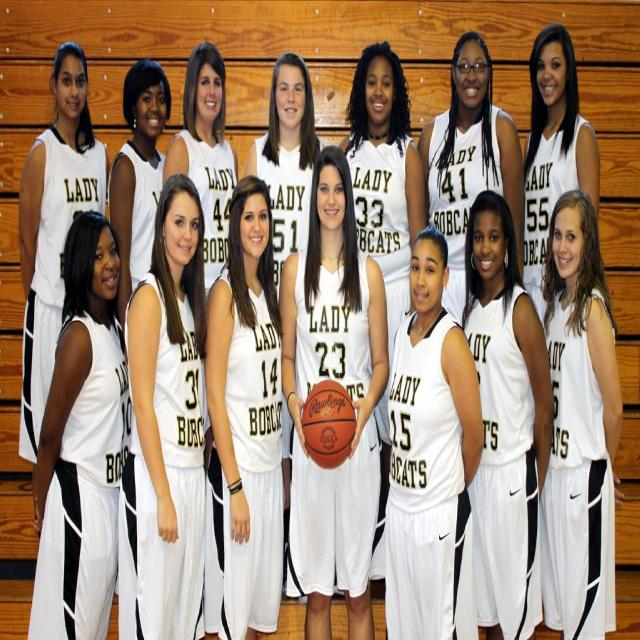Face: (550, 195, 596, 291), (469, 201, 517, 292), (531, 27, 578, 113), (165, 177, 206, 272), (87, 216, 125, 317), (453, 33, 497, 120), (406, 236, 449, 322), (55, 42, 95, 131), (237, 182, 276, 273), (316, 157, 351, 252), (191, 51, 233, 128), (275, 56, 310, 146), (362, 51, 402, 129), (134, 74, 171, 150)
